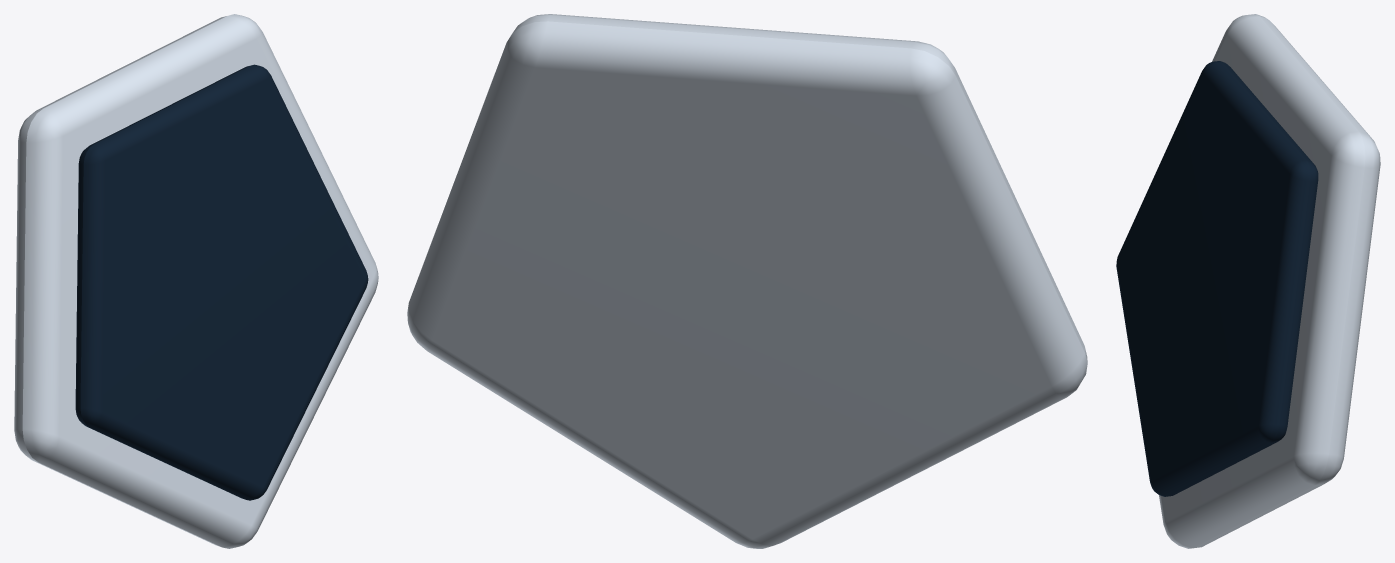
Rendered from badge-platinum.glb.
3 views of the same model, side by side, from view 1: azimuth 30°, elevation 25°; view 2: azimuth 150°, elevation 25°; view 3: azimuth 270°, elevation 25° (orthographic). The views are drawn at different scales.
Visible parts, largest first — view 1: Empty smooth face badge-platinum, Rounded pentagon backing badge-platinum; view 2: Rounded pentagon backing badge-platinum; view 3: Empty smooth face badge-platinum, Rounded pentagon backing badge-platinum.
Part boxes in pixels (box(x1,y1,x2,y2)): Empty smooth face badge-platinum: box(75, 64, 368, 500); Rounded pentagon backing badge-platinum: box(14, 14, 378, 548); Rounded pentagon backing badge-platinum: box(407, 14, 1087, 548); Empty smooth face badge-platinum: box(1116, 61, 1318, 496); Rounded pentagon backing badge-platinum: box(1159, 14, 1380, 548).
Bounding box in the file's own units: 4.26 × 4.16 × 2.2.
